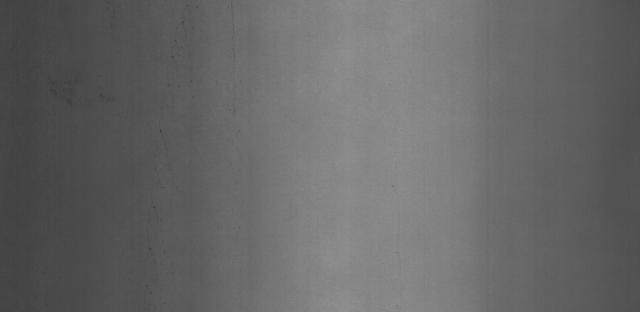inclusion: (137, 145, 175, 298), (158, 6, 203, 134), (39, 60, 124, 124)
